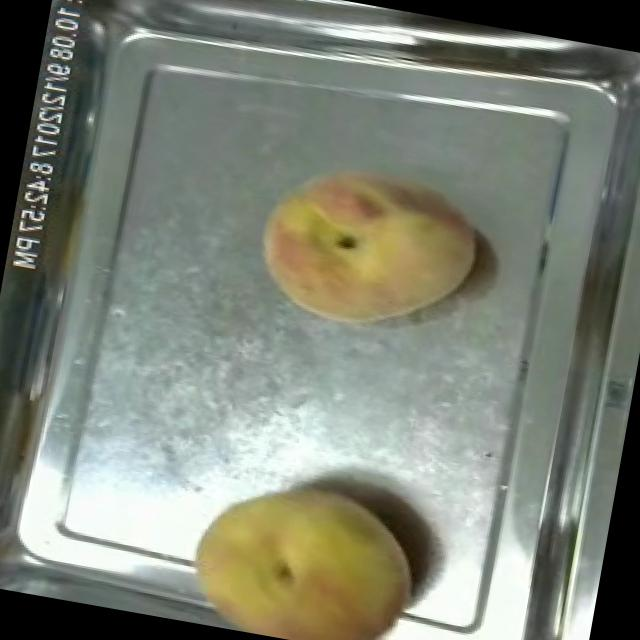Fruit: (241, 140, 494, 352), (173, 454, 435, 640)
